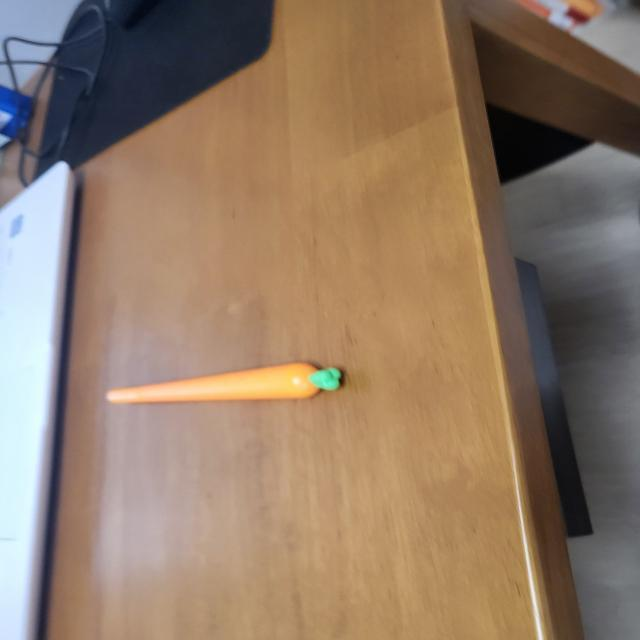carrot: (100, 359, 322, 408)
